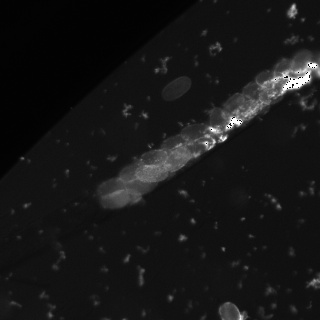embryo: (259, 76, 289, 105), (288, 48, 313, 80), (163, 144, 191, 172), (161, 76, 191, 101), (182, 136, 213, 159), (159, 134, 189, 157), (255, 70, 290, 89), (274, 58, 295, 89), (124, 177, 158, 196), (135, 164, 168, 183), (119, 161, 146, 184), (98, 177, 126, 199), (100, 189, 130, 209), (241, 82, 264, 107), (222, 93, 244, 119), (138, 149, 168, 168), (181, 124, 210, 143), (209, 107, 226, 131)
